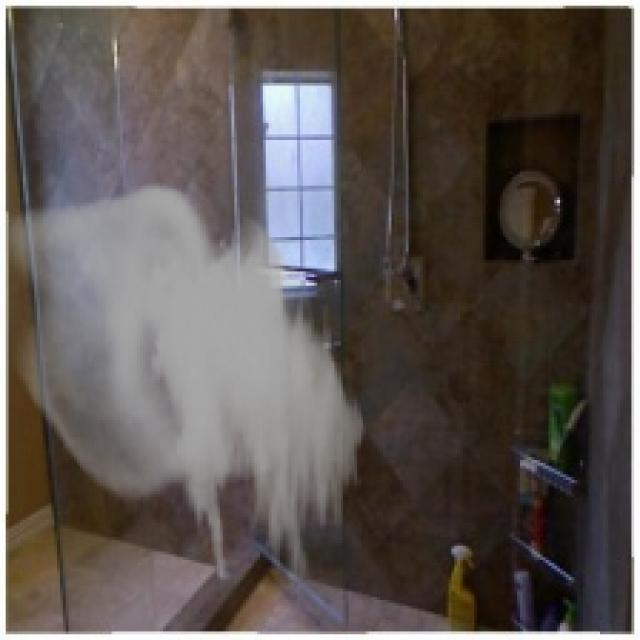Smoke: (6, 183, 368, 583)
